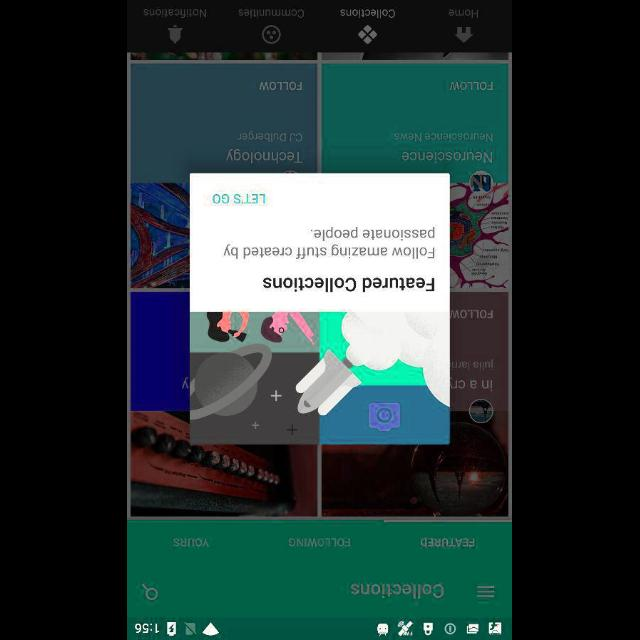icon: (142, 582, 160, 600), (168, 26, 185, 44), (456, 27, 474, 43), (477, 584, 495, 598)
image: (190, 312, 450, 444), (358, 24, 378, 44), (264, 24, 282, 44)
panel: (190, 173, 450, 444)
text: (223, 227, 434, 260), (264, 276, 434, 292), (350, 584, 444, 598), (226, 148, 304, 164), (402, 151, 492, 163), (396, 132, 494, 142), (239, 131, 303, 143), (144, 8, 208, 18), (213, 193, 267, 204), (453, 377, 492, 391), (239, 10, 305, 18), (452, 308, 494, 320), (289, 538, 351, 546), (455, 358, 495, 370), (340, 10, 396, 18), (421, 538, 475, 546), (450, 82, 494, 90), (259, 82, 303, 90), (174, 538, 210, 546), (449, 10, 478, 18)
uppertaskbar: (128, 617, 512, 639)
